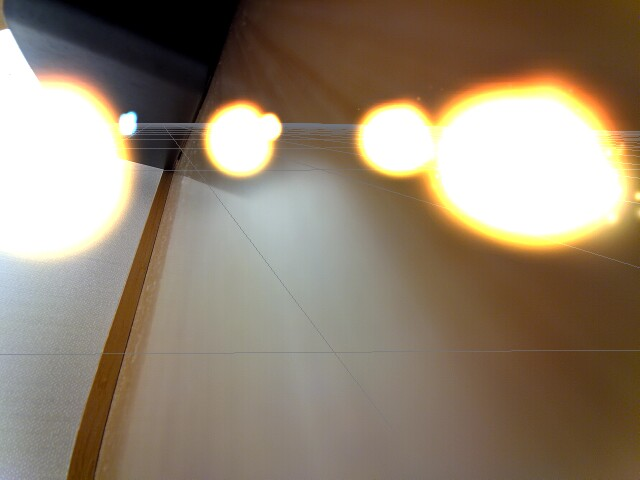firebig: (434, 68, 634, 260)
